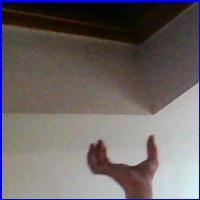space: (80, 130, 172, 186)
